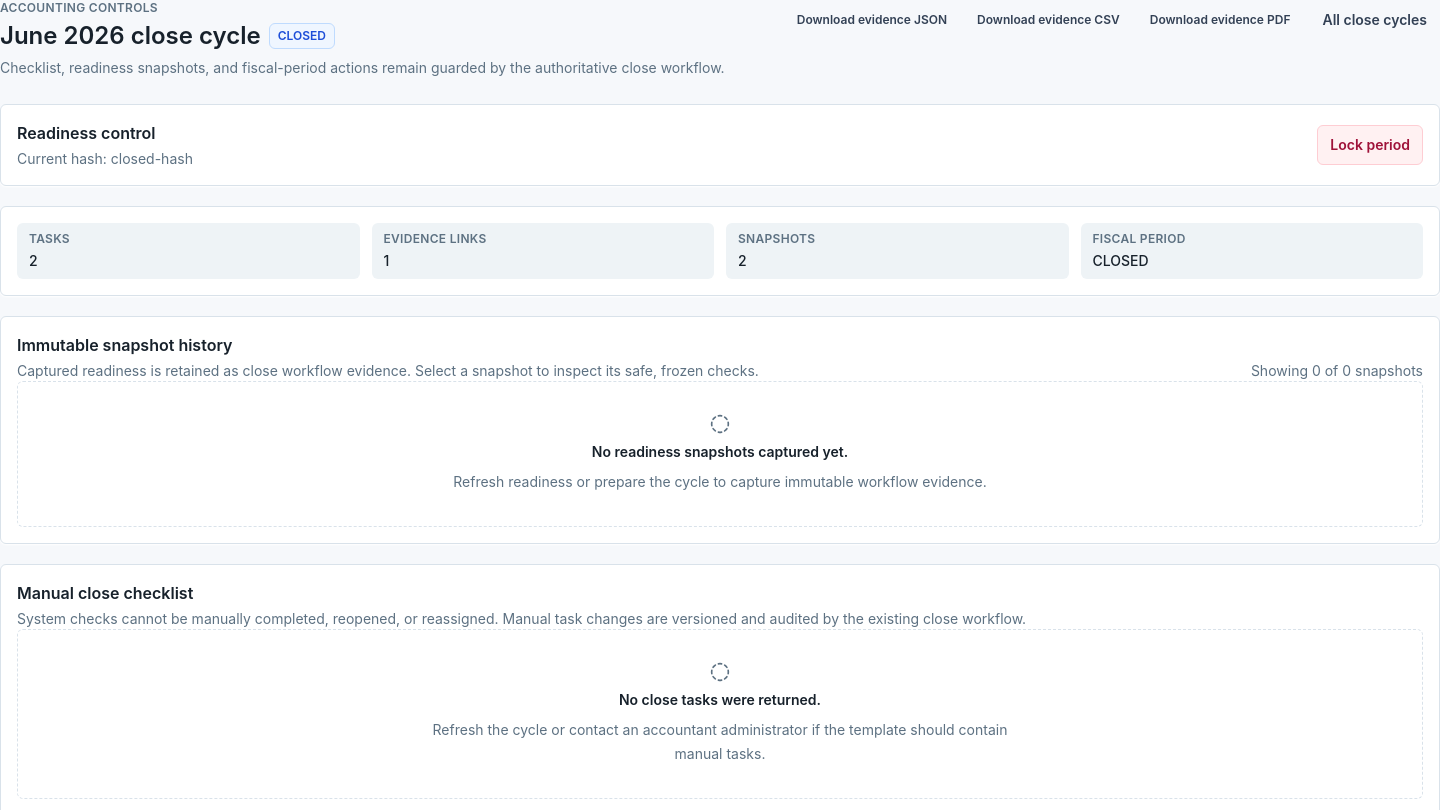
Test: accountant close cycle detail › shows post-close drift and reloads after a safe lock revalidation conflict
Click the button "Lock period" at point(1370, 145), box top-left (1317, 125), bottom-right (1423, 165)
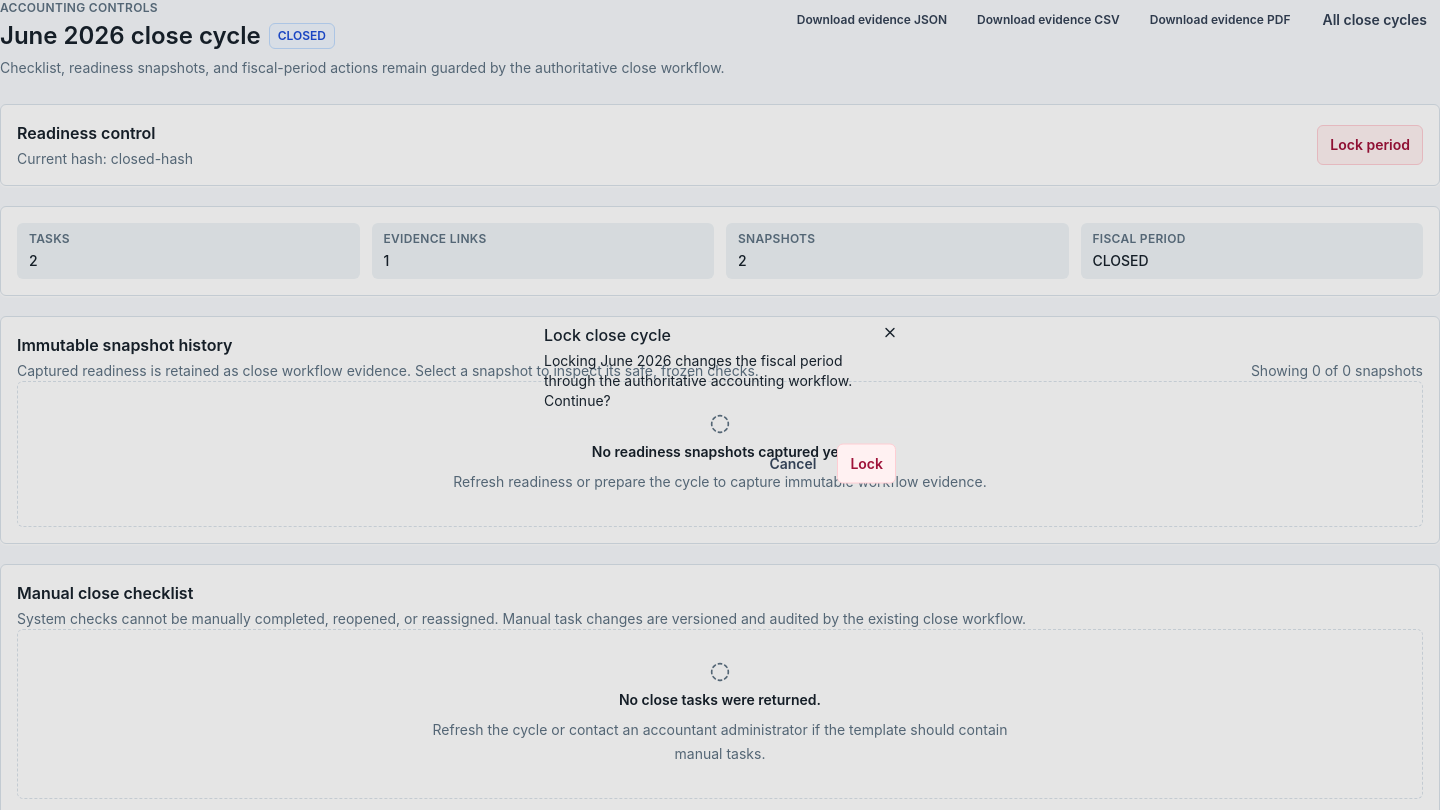
Click the button "Lock" at point(867, 464), box top-left (837, 444), bottom-right (896, 484)
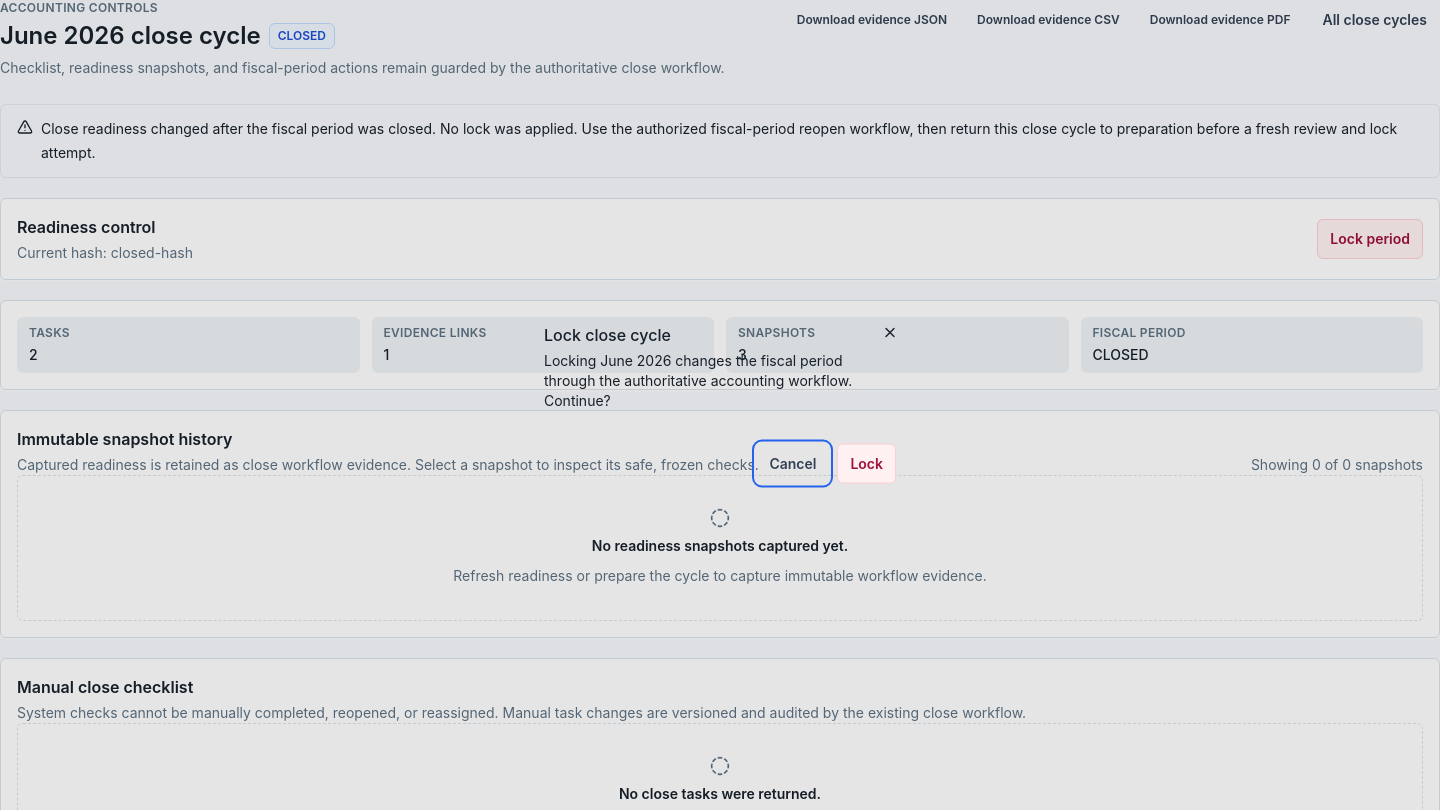
Check: the text "Close readiness changed after the fiscal period was closed. No lock was applied. Use the authorized fiscal-period reopen" is shown, box top-left (41, 120), bottom-right (1397, 161)
